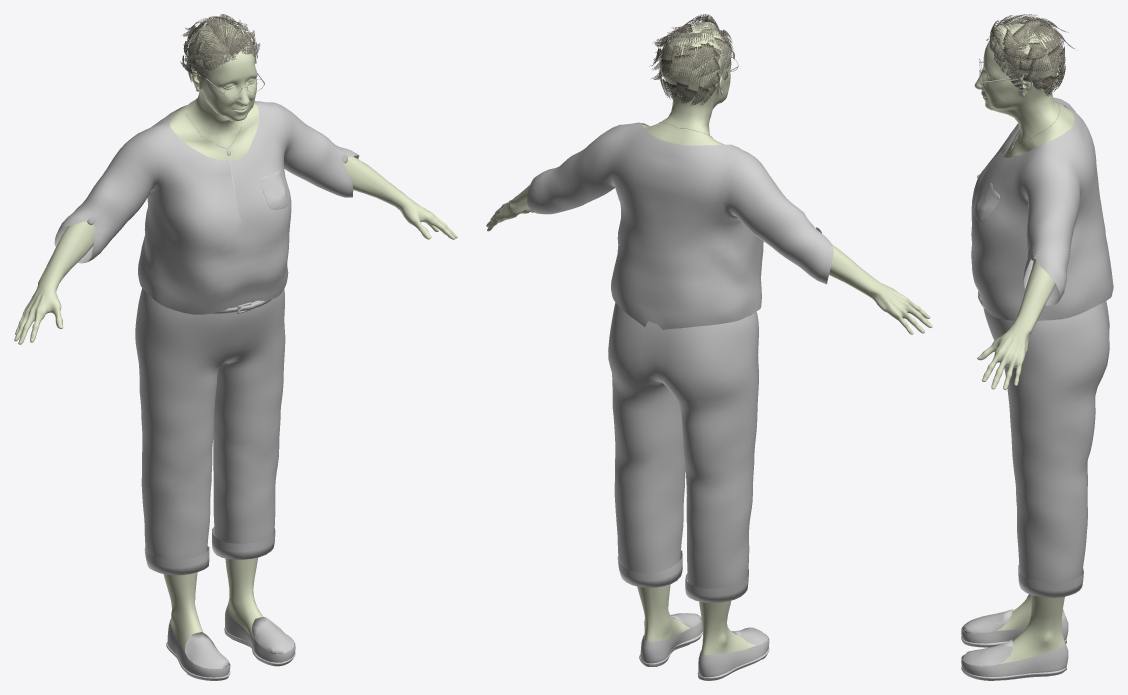
Rendered from character_Tpose.fbx.
3 views of the same model, side by side, from view 1: azimuth 30°, elevation 25°; view 2: azimuth 150°, elevation 25°; view 3: azimuth 270°, elevation 25° (orthographic).
Parts seen in each view (by area): view 1: pants_LP, blouse_LP, body_LP, shoes_LP, NurbsPath.049, hairbase_LP; view 2: pants_LP, blouse_LP, body_LP, NurbsPath.049, shoes_LP, hairbase_LP; view 3: pants_LP, blouse_LP, body_LP, shoes_LP, NurbsPath.049, hairbase_LP.
Part boxes in pixels (x1=…): pants_LP: x1=135, y1=288, x2=285, y2=575; blouse_LP: x1=54, y1=101, x2=359, y2=314; body_LP: x1=14, y1=46, x2=457, y2=664; shoes_LP: x1=166, y1=606, x2=295, y2=680; NurbsPath.049: x1=180, y1=14, x2=260, y2=82; hairbase_LP: x1=187, y1=23, x2=252, y2=70; pants_LP: x1=608, y1=302, x2=758, y2=602; blouse_LP: x1=527, y1=122, x2=833, y2=329; body_LP: x1=486, y1=49, x2=932, y2=654; NurbsPath.049: x1=649, y1=14, x2=734, y2=105; shoes_LP: x1=639, y1=613, x2=769, y2=680; hairbase_LP: x1=661, y1=22, x2=724, y2=98; pants_LP: x1=983, y1=301, x2=1109, y2=597; blouse_LP: x1=971, y1=97, x2=1113, y2=320; body_LP: x1=964, y1=38, x2=1074, y2=663; shoes_LP: x1=961, y1=609, x2=1068, y2=680; NurbsPath.049: x1=986, y1=14, x2=1076, y2=96; hairbase_LP: x1=992, y1=23, x2=1060, y2=83.
Bounding box in the file's own units: 150 × 208 × 44.8.
